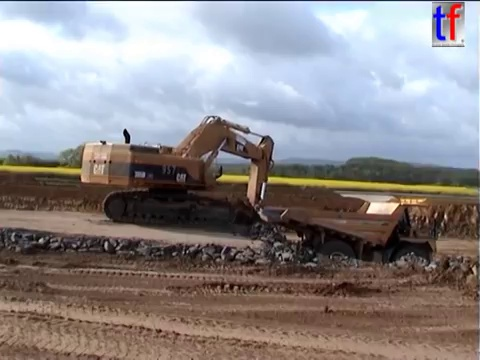excavator: (77, 113, 279, 247)
truck: (258, 195, 440, 284)
